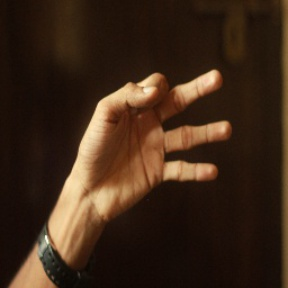K: (79, 68, 232, 212)
